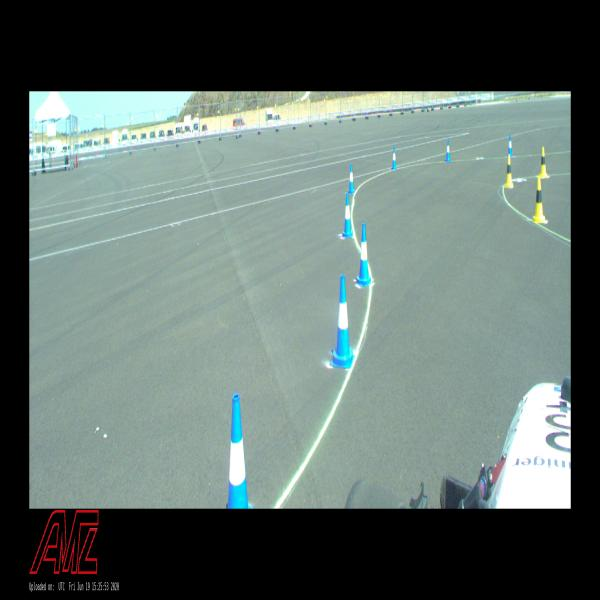blue_cone: (226, 393, 253, 508), (330, 275, 355, 369), (357, 223, 371, 286), (342, 193, 353, 238), (348, 163, 355, 194), (507, 134, 513, 156), (392, 147, 396, 169), (446, 140, 450, 162)
yellow_cone: (533, 177, 545, 222), (505, 155, 514, 187), (539, 147, 548, 178)
